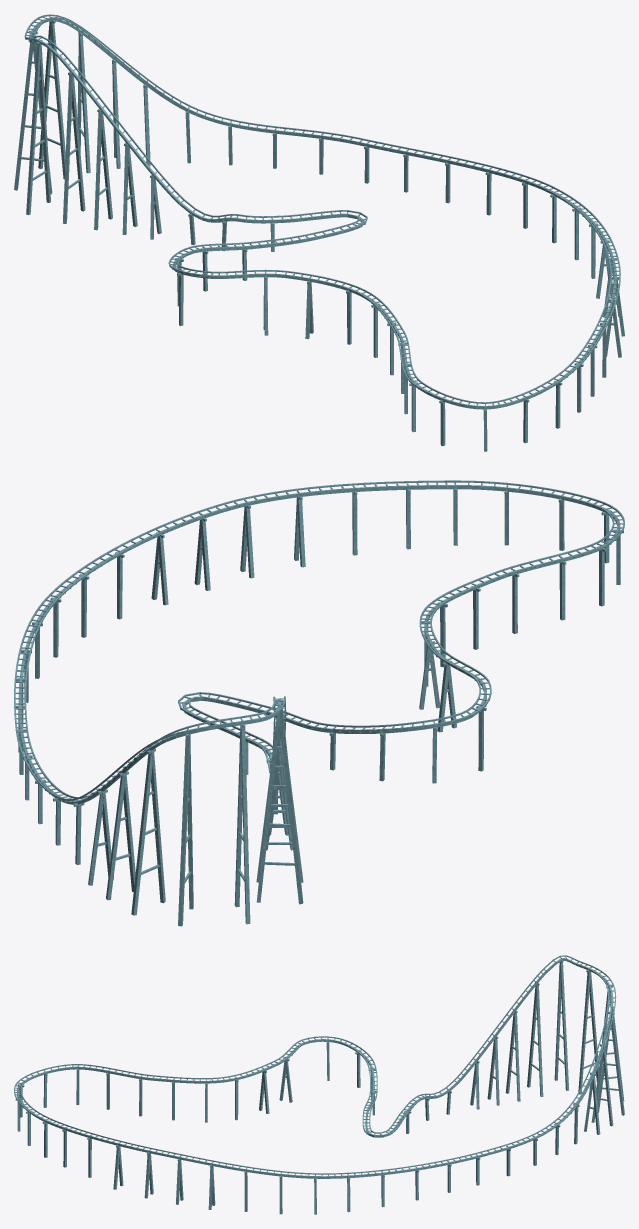
File: Atlantis_Track.fbx
3 renders of one model, top to bottom at view 1: azimuth 30°, elevation 25°; view 2: azimuth 150°, elevation 25°; view 3: azimuth 270°, elevation 25°, orthographic. The views are drawn at different scales.
Parts seen in each view (by area): view 1: Supports, Rails; view 2: Supports, Rails; view 3: Supports, Rails.
Part boxes in pixels (x1,y1,x2,y2): Supports: [14, 20, 624, 451]; Rails: [24, 14, 620, 409]; Supports: [15, 488, 623, 926]; Rails: [14, 480, 624, 804]; Supports: [15, 958, 624, 1214]; Rails: [14, 955, 616, 1178].
Size of the model in its own units: 72.71 by 31.75 by 137.
